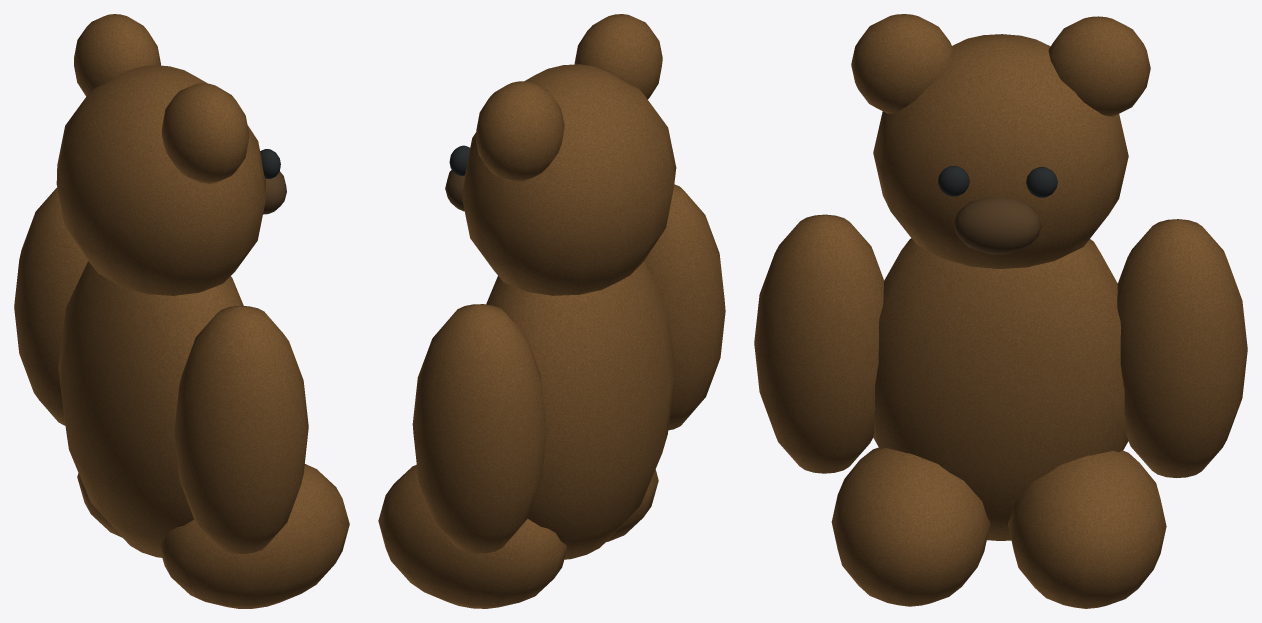
File: SM_TeddyPrize_7486c44da1.fbx
3 renders of one model, left to right at view 1: azimuth 30°, elevation 25°; view 2: azimuth 150°, elevation 25°; view 3: azimuth 270°, elevation 25°, orthographic. The views are drawn at different scales.
Visible parts, largest first — view 1: SM_TeddyPrize_7486c44da1; view 2: SM_TeddyPrize_7486c44da1; view 3: SM_TeddyPrize_7486c44da1.
Part boxes in pixels (x1,y1,x2,y2): SM_TeddyPrize_7486c44da1: (14, 14, 349, 608); SM_TeddyPrize_7486c44da1: (378, 14, 725, 608); SM_TeddyPrize_7486c44da1: (754, 14, 1247, 608).
Size of what is drawn, in the model's own units: 30.94 by 55.36 by 68.25.
Materials: 3 (1 with a texture image).
